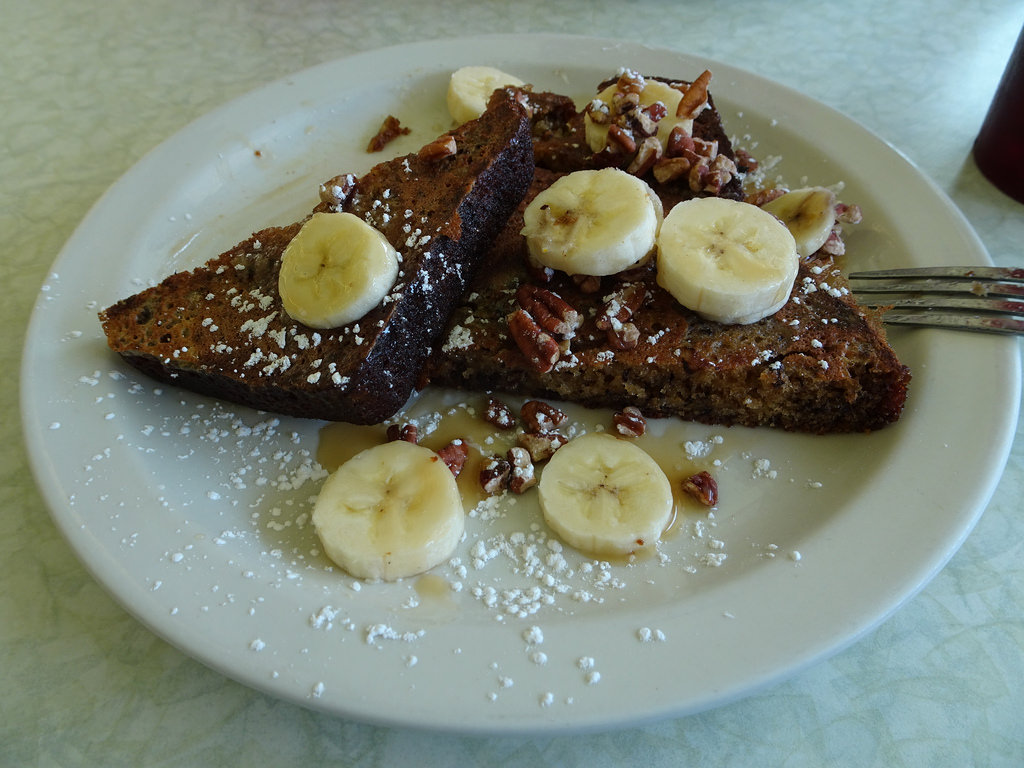slice of bread: (465, 284, 896, 432)
